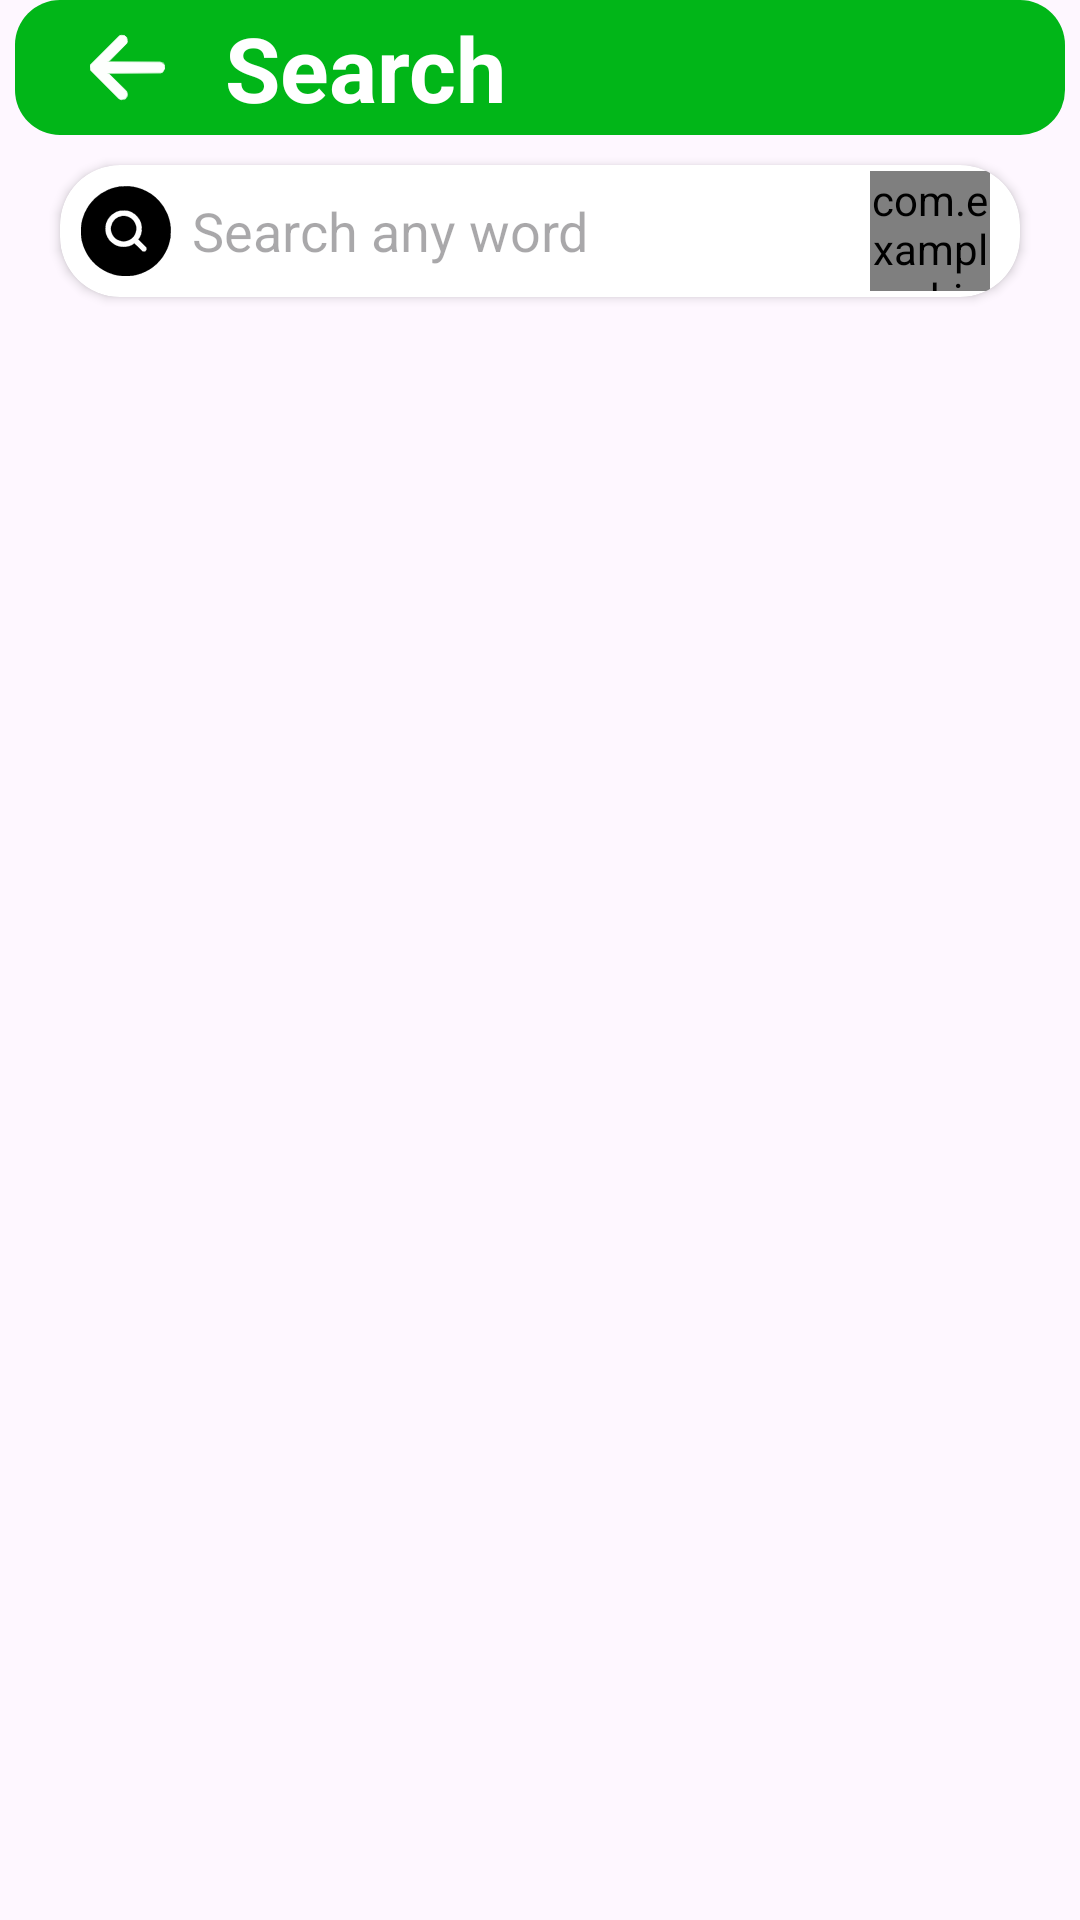

Screen size 1080x1920. Icon name, then its box in pixels as (x1, y1, x2, y2):
back: (90, 34, 165, 101)
